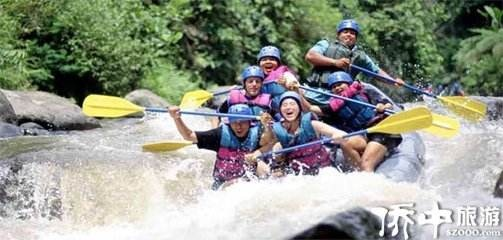blue: (226, 102, 253, 138), (276, 90, 303, 123), (239, 63, 266, 96), (334, 17, 360, 47), (257, 44, 281, 76), (327, 69, 353, 96)
